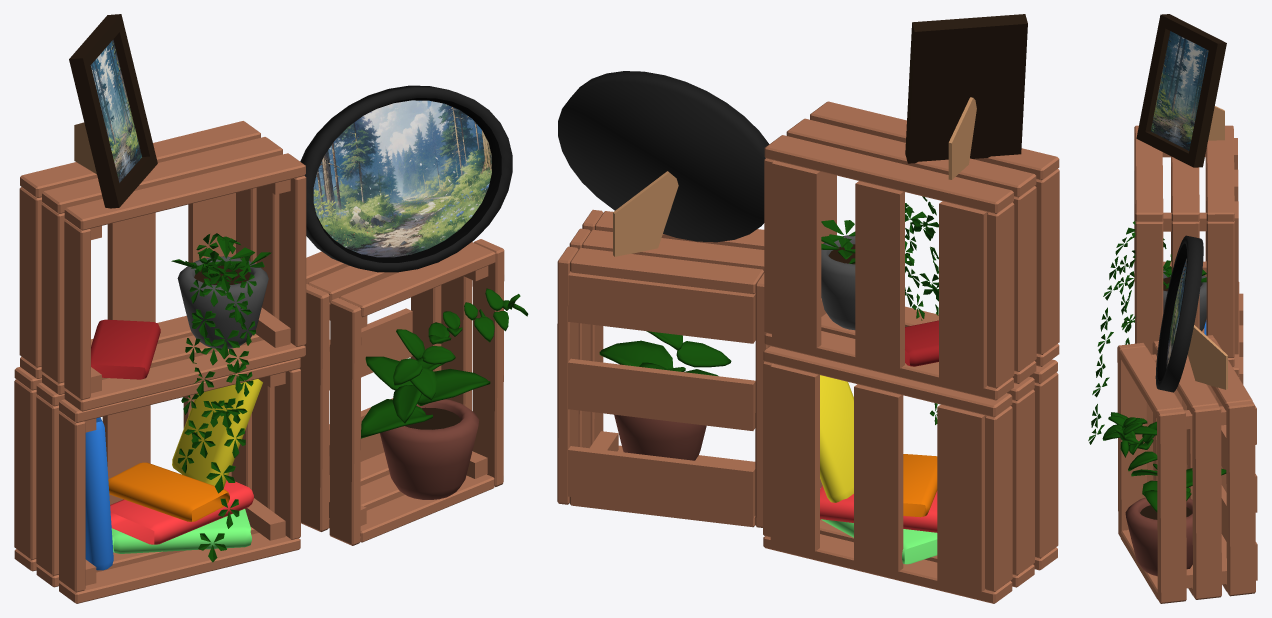
The picture shows the model from 3 angles, left to right: view 1: azimuth 30°, elevation 25°; view 2: azimuth 150°, elevation 25°; view 3: azimuth 270°, elevation 25°; orthographic projection. The views are drawn at different scales.
Visible parts, largest first — view 1: Holzbox_regal.002; view 2: Holzbox_regal.002; view 3: Holzbox_regal.002.
Part boxes in pixels (left/top/right/bottom): Holzbox_regal.002: left=14, top=14, right=528, bottom=603; Holzbox_regal.002: left=557, top=14, right=1059, bottom=603; Holzbox_regal.002: left=1088, top=14, right=1257, bottom=603.
Bounding box in the file's own units: 1.27 × 1.42 × 0.5082.
3 materials, 3 textured.
